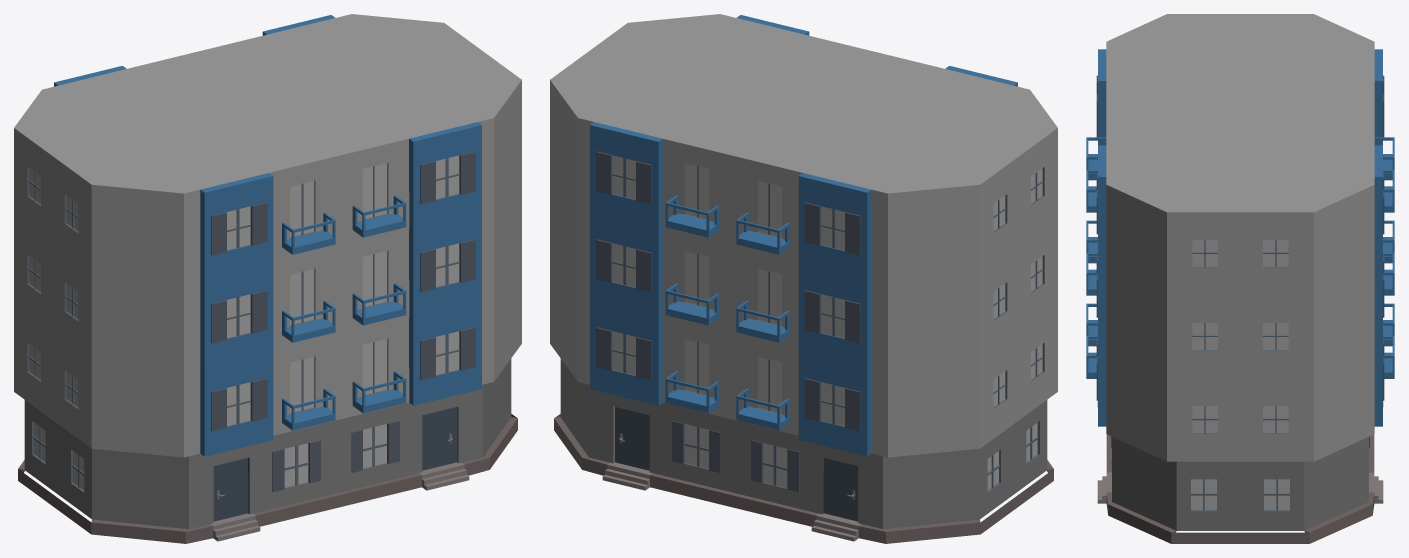
The model's file is 4 immeubles bleus.fbx.
3 views of the same model, side by side, from view 1: azimuth 30°, elevation 25°; view 2: azimuth 150°, elevation 25°; view 3: azimuth 270°, elevation 25° (orthographic). The views are drawn at different scales.
Parts seen in each view (by area): view 1: immeuble.002, immeuble.004, immeuble.001, immeuble.000; view 2: immeuble.001, immeuble.000, immeuble.002, immeuble.004; view 3: immeuble.000, immeuble.004, immeuble.002, immeuble.001.
Part boxes in pixels (x1,y1,x2,y2): immeuble.002: [49, 99, 345, 543]; immeuble.004: [278, 49, 521, 508]; immeuble.001: [14, 53, 270, 509]; immeuble.000: [191, 14, 479, 104]; immeuble.001: [726, 105, 1022, 543]; immeuble.000: [550, 54, 800, 508]; immeuble.002: [794, 53, 1057, 504]; immeuble.004: [585, 14, 880, 99]; immeuble.000: [1234, 110, 1394, 543]; immeuble.004: [1086, 110, 1246, 543]; immeuble.002: [1086, 14, 1246, 406]; immeuble.001: [1234, 14, 1394, 406].
Size of the model in its own units: 8707 by 6804 by 5714.
